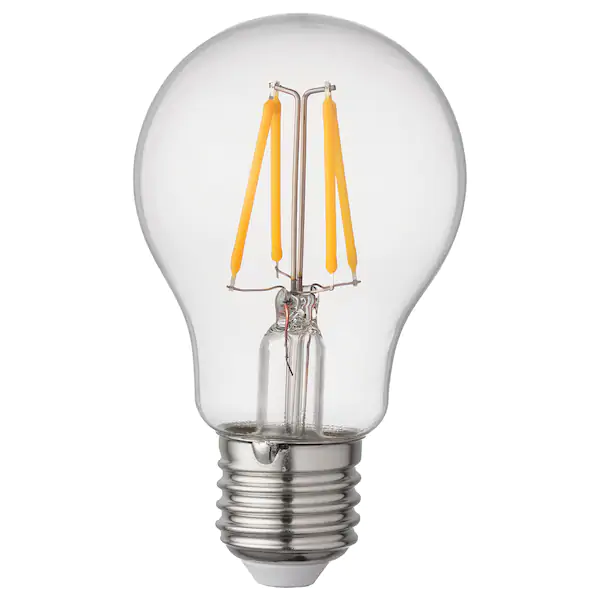Light bulb: (130, 10, 469, 590)
